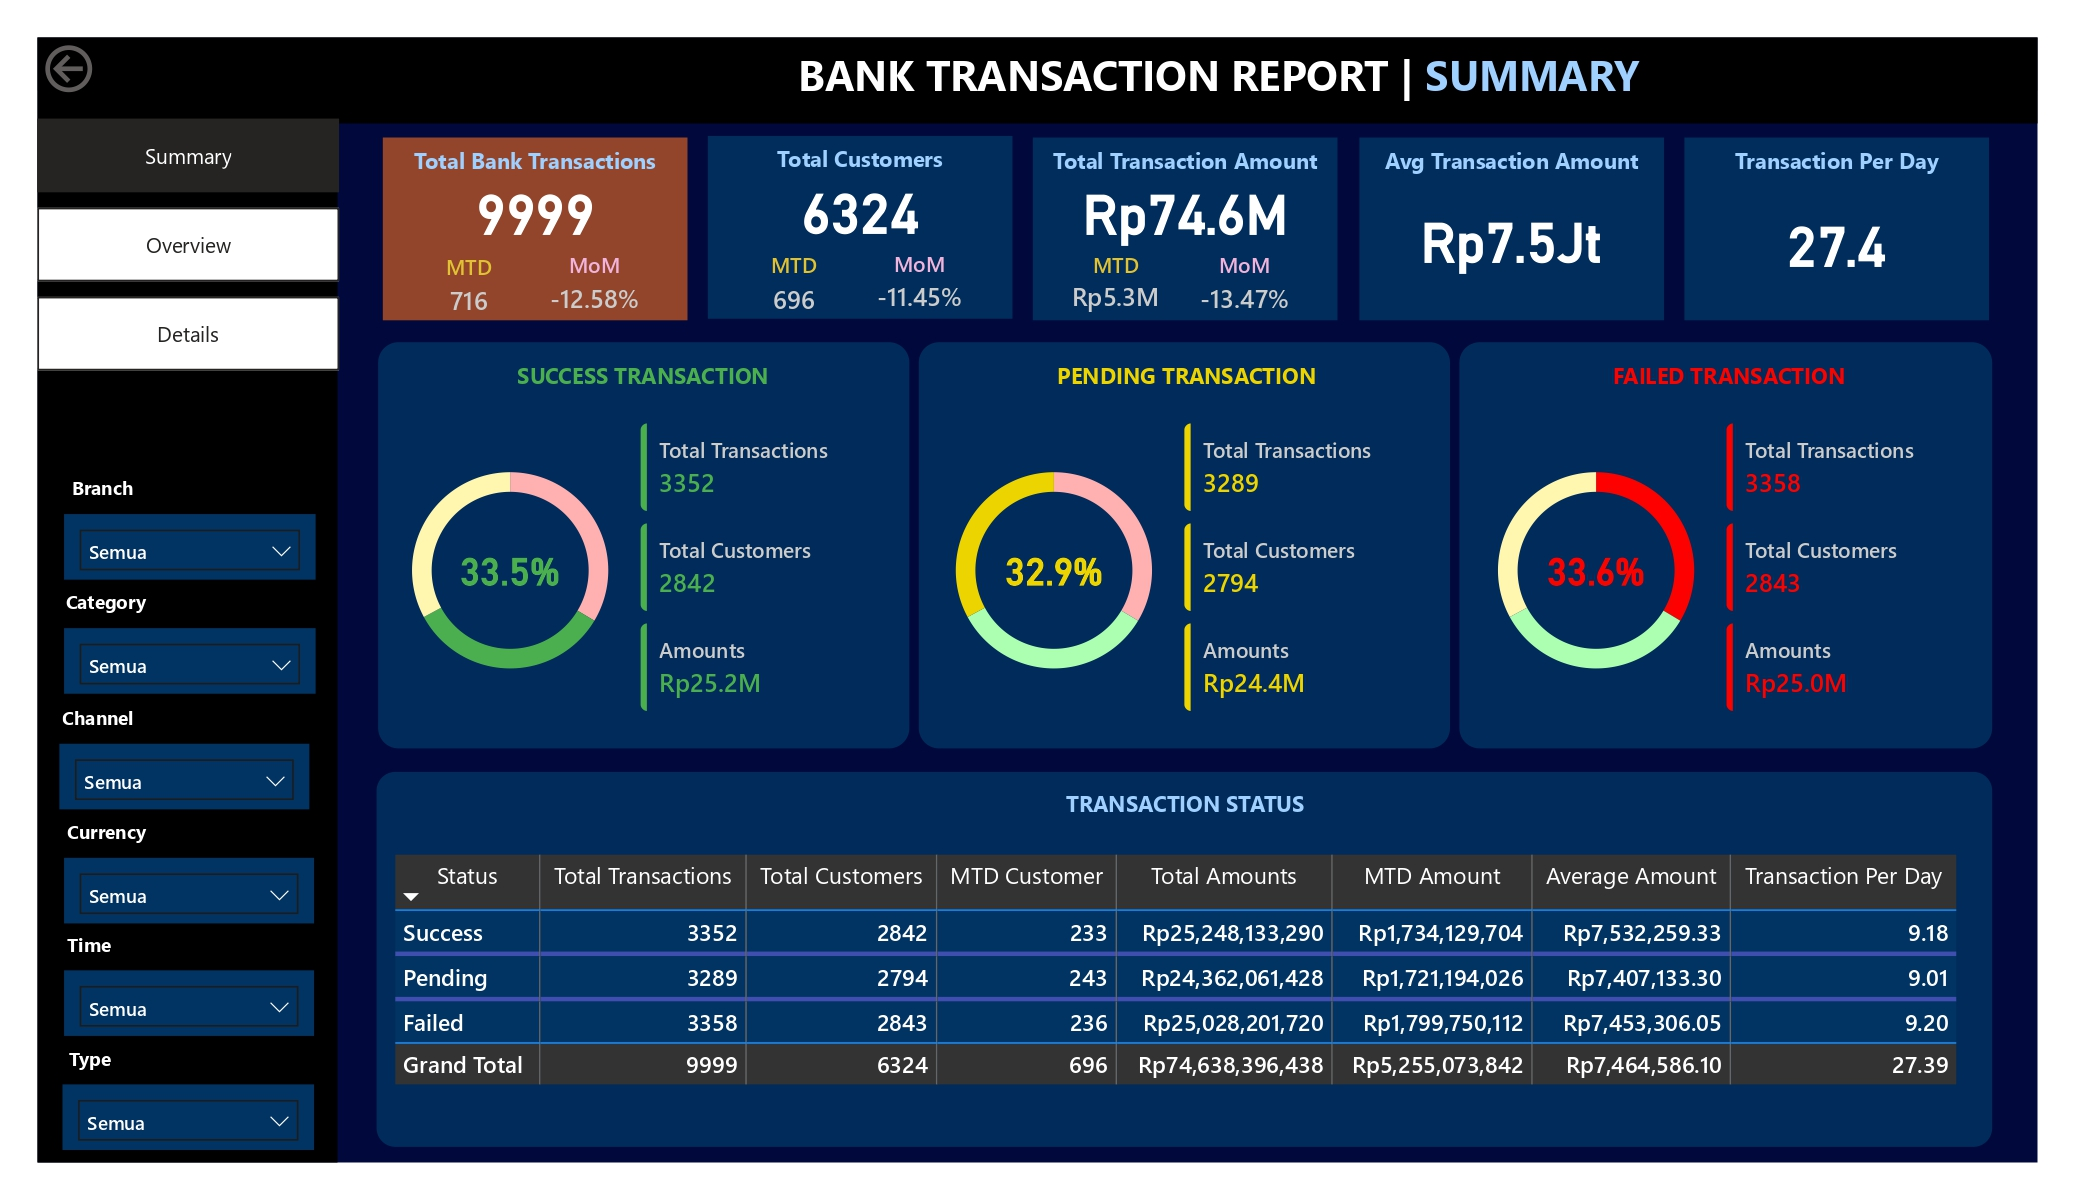

The dashboard page shown, as its layout file describes it:
{"tool":"powerbi","page":{"name":"Summary","canvas":[1280,720],"ordinal":0},"visuals":[{"type":"shape","box":[0,54.8,192,665.5],"z":0},{"type":"shape","box":[428.9,63.3,195.1,117.3],"z":0,"group":"g5"},{"type":"shape","box":[220.6,63.7,195.1,117.3],"z":0,"group":"g4"},{"type":"shape","box":[637.3,63.7,195.1,117.3],"z":0,"group":"g6"},{"type":"shape","box":[845.7,63.7,195.1,117.3],"z":0,"group":"g7"},{"type":"shape","box":[1054.1,63.7,195.1,117.3],"z":0,"group":"g8"},{"type":"textbox","box":[223.1,202.3,328.9,39.5],"z":0,"group":"g9"},{"type":"textbox","box":[570.5,202.3,328.9,39.5],"z":0,"group":"g10"},{"type":"textbox","box":[917.9,202.3,328.9,39.5],"z":0,"group":"g11"},{"type":"card","fields":{"Values":["bank.UniqueCustomers"]},"box":[428.9,82.4,195.1,54.8],"z":1000,"group":"g5"},{"type":"card","fields":{"Values":["bank.TotalTransaction"]},"box":[220.6,82.8,195.1,54.8],"z":1000,"group":"g4"},{"type":"card","fields":{"Values":["bank.TotalAmount"]},"box":[637.3,82.8,195.1,54.8],"z":1000,"group":"g6"},{"type":"card","fields":{"Values":["bank.AverageTransactionValue"]},"box":[845.7,100.7,195.1,54.8],"z":1000,"group":"g7"},{"type":"card","fields":{"Values":["bank.TransactionPerDay"]},"box":[1054.1,103.2,195.1,54.8],"z":1000,"group":"g8"},{"type":"group","id":"g1","title":"Group 2","box":[219.3,257.1,167,168.3],"z":1000,"group":"g9"},{"type":"group","id":"g2","title":"Group 2","box":[566.7,257.1,167,168.3],"z":1000,"group":"g10"},{"type":"group","id":"g3","title":"Group 2","box":[914.1,257.1,167,168.3],"z":1000,"group":"g11"},{"type":"shape","box":[216.7,470.4,1033.9,239.7],"z":1000},{"type":"textbox","box":[428.9,63.3,195.1,39.5],"z":2000,"group":"g5"},{"type":"textbox","box":[220.6,63.7,195.1,39.5],"z":2000,"group":"g4"},{"type":"textbox","box":[637.3,63.7,195.1,39.5],"z":2000,"group":"g6"},{"type":"textbox","box":[845.7,63.7,195.1,39.5],"z":2000,"group":"g7"},{"type":"textbox","box":[1054.1,63.7,195.1,39.5],"z":2000,"group":"g8"},{"type":"shape","box":[564.1,195.1,340,260.1],"z":2000},{"type":"cardVisual","fields":{"Data":["bank.TotalSuccessTransaction","bank.TotalSuccessCustomers","bank.TotalSuccessAmount"]},"box":[369.7,230.3,183.6,218],"z":2000,"group":"g9"},{"type":"cardVisual","fields":{"Data":["bank.TotalPendingTransaction","bank.TotalPendingCustomers","bank.TotalPendingAmount"]},"box":[717.1,230.3,183.6,218],"z":2000,"group":"g10"},{"type":"cardVisual","fields":{"Data":["bank.TotalFailedTransaction","bank.TotalFailedCustomers","bank.TotalFailedAmount"]},"box":[1064.5,230.3,183.6,218],"z":2000,"group":"g11"},{"type":"card","title":"MTD","fields":{"Values":["bank.MTDCustomer"]},"box":[450.6,137.2,66.3,48.4],"z":3000,"group":"g5"},{"type":"card","title":"MTD","fields":{"Values":["bank.MTDAmount"]},"box":[654.2,137.2,72.3,42.2],"z":3000,"group":"g6"},{"type":"card","title":"MTD","fields":{"Values":["bank.MTDBankTransactions"]},"box":[242.3,137.6,66.3,48.4],"z":3000,"group":"g4"},{"type":"shape","box":[218,195.1,340,260.1],"z":3000},{"type":"textbox","box":[16.6,274.1,56.1,39.5],"z":3000,"group":"g12"},{"type":"shape","box":[0,0,1280,55],"z":4000},{"type":"card","title":"MoM","fields":{"Values":["bank.MoMCustomer"]},"box":[526.5,136.8,75.9,47],"z":4000,"group":"g5"},{"type":"card","title":"MoM","fields":{"Values":["bank.MoMBankTransactions"]},"box":[318.2,137.2,75.9,47],"z":4000,"group":"g4"},{"type":"card","title":"MoM","fields":{"Values":["bank.MoMAmount"]},"box":[734.9,137.2,75.9,47],"z":4000,"group":"g6"},{"type":"textbox","box":[637.1,475.5,195.1,39.5],"z":5000},{"type":"textbox","box":[481.9,0,557.1,56.1],"z":6000},{"type":"group","id":"g4","title":"Group 1","box":[220.6,63.7,195.1,122.4],"z":7000},{"type":"group","id":"g5","title":"Group 1","box":[428.9,63.3,195.1,122.4],"z":8000},{"type":"group","id":"g6","title":"Group 1","box":[637.3,63.7,195.1,120.5],"z":9000},{"type":"group","id":"g7","title":"Group 1","box":[845.7,63.7,195.1,117.3],"z":10000},{"type":"group","id":"g8","title":"Group 1","box":[1054.1,63.7,195.1,117.3],"z":11000},{"type":"actionButton","box":[0,0,100,40],"z":12000},{"type":"shape","box":[910.3,195.1,340.4,260.1],"z":13000},{"type":"donutChart","fields":{"Category":["bank.Transaction Status"],"Y":["bank.TotalTransaction"]},"box":[219.3,257.1,167,168.3],"z":13000,"group":"g1"},{"type":"donutChart","fields":{"Category":["bank.Transaction Status"],"Y":["bank.TotalTransaction"]},"box":[566.7,257.1,167,168.3],"z":13000,"group":"g2"},{"type":"donutChart","fields":{"Category":["bank.Transaction Status"],"Y":["bank.TotalTransaction"]},"box":[914.1,257.1,167,168.3],"z":13000,"group":"g3"},{"type":"card","fields":{"Values":["bank.SucessTransPerc"]},"box":[242.2,309.4,121.1,63.7],"z":13500,"group":"g1"},{"type":"card","fields":{"Values":["bank.PendingTransPerc"]},"box":[589.6,309.4,121.1,63.7],"z":13500,"group":"g2"},{"type":"card","fields":{"Values":["bank.FailedTransPerc"]},"box":[937,309.4,121.1,63.7],"z":13500,"group":"g3"},{"type":"group","id":"g9","title":"Group 3","box":[219.3,202.3,334,246.1],"z":14000},{"type":"group","id":"g10","title":"Group 3","box":[566.7,202.3,334,246.1],"z":15000},{"type":"group","id":"g11","title":"Group 3","box":[914.1,202.3,334,246.1],"z":16000},{"type":"tableEx","fields":{"Values":["bank.Status","bank.TotalTransaction","bank.UniqueCustomers","bank.MTDCustomer","bank.TotalAmount","bank.MTDAmount","bank.AverageTransactionValue","bank.TransactionPerDay"]},"box":[223.4,517.6,1022.5,198.9],"z":17000},{"type":"group","id":"g12","title":"Group 4","box":[16.6,274.1,160.6,72.7],"z":18000},{"type":"slicer","fields":{"Values":["bank.Branch"]},"box":[16.6,304.7,160.6,42.1],"z":19000,"group":"g12"},{"type":"group","id":"g13","title":"Group 5","box":[12.7,346.8,164.5,73.9],"z":19000},{"type":"textbox","box":[12.7,346.8,72.7,39.5],"z":20000,"group":"g13"},{"type":"group","id":"g14","title":"Group 5","box":[11.5,420.7,163.2,72.9],"z":20000},{"type":"textbox","box":[11.5,420.7,70.1,39.5],"z":20000,"group":"g14"},{"type":"textbox","box":[14,493.5,70.1,39.5],"z":20000,"group":"g15"},{"type":"textbox","box":[14,566.1,70.1,39.5],"z":20000,"group":"g16"},{"type":"textbox","box":[14.9,638.7,70.1,39.5],"z":20000,"group":"g17"},{"type":"slicer","fields":{"Values":["bank.MerchantCategory"]},"box":[16.9,377.7,160.6,42.1],"z":21000,"group":"g13"},{"type":"slicer","fields":{"Values":["bank.Channel"]},"box":[14.1,451.6,160.6,42.1],"z":21000,"group":"g14"},{"type":"group","id":"g15","title":"Group 5","box":[14,493.5,163.2,72.7],"z":21000},{"type":"slicer","fields":{"Values":["bank.Currency"]},"box":[16.6,524.4,160.6,42.1],"z":21000,"group":"g15"},{"type":"slicer","fields":{"Values":["bank.TimeOfDay"]},"box":[16.6,597,160.6,42.1],"z":21000,"group":"g16"},{"type":"slicer","fields":{"Values":["bank.TransactionType"]},"box":[16.1,669.7,160.6,42.1],"z":21000,"group":"g17"},{"type":"group","id":"g16","title":"Group 5","box":[14,566.1,163.2,72.7],"z":22000},{"type":"group","id":"g17","title":"Group 5","box":[14.9,638.7,161.9,72.7],"z":23000},{"type":"pageNavigator","box":[0,52.3,192.5,161.9],"z":24000}]}

Visuals, with their boxes on the page's 1280x720 design canvas (x1, y1, x2, y2). These are canvas units, not pixel positions in the 2075x1200 screenshot, which may show the page scaled, cropped or inside an application window:
shape: bbox=(0, 55, 192, 720)
shape: bbox=(429, 63, 624, 181)
shape: bbox=(221, 64, 416, 181)
shape: bbox=(637, 64, 832, 181)
shape: bbox=(846, 64, 1041, 181)
shape: bbox=(1054, 64, 1249, 181)
textbox: bbox=(223, 202, 552, 242)
textbox: bbox=(570, 202, 899, 242)
textbox: bbox=(918, 202, 1247, 242)
card - bank.UniqueCustomers: bbox=(429, 82, 624, 137)
card - bank.TotalTransaction: bbox=(221, 83, 416, 138)
card - bank.TotalAmount: bbox=(637, 83, 832, 138)
card - bank.AverageTransactionValue: bbox=(846, 101, 1041, 156)
card - bank.TransactionPerDay: bbox=(1054, 103, 1249, 158)
"Group 2" group: bbox=(219, 257, 386, 425)
"Group 2" group: bbox=(567, 257, 734, 425)
"Group 2" group: bbox=(914, 257, 1081, 425)
shape: bbox=(217, 470, 1251, 710)
textbox: bbox=(429, 63, 624, 103)
textbox: bbox=(221, 64, 416, 103)
textbox: bbox=(637, 64, 832, 103)
textbox: bbox=(846, 64, 1041, 103)
textbox: bbox=(1054, 64, 1249, 103)
shape: bbox=(564, 195, 904, 455)
cardVisual - bank.TotalSuccessTransaction x bank.TotalSuccessCustomers: bbox=(370, 230, 553, 448)
cardVisual - bank.TotalPendingTransaction x bank.TotalPendingCustomers: bbox=(717, 230, 901, 448)
cardVisual - bank.TotalFailedTransaction x bank.TotalFailedCustomers: bbox=(1064, 230, 1248, 448)
"MTD" card: bbox=(451, 137, 517, 186)
"MTD" card: bbox=(654, 137, 726, 179)
"MTD" card: bbox=(242, 138, 309, 186)
shape: bbox=(218, 195, 558, 455)
textbox: bbox=(17, 274, 73, 314)
shape: bbox=(0, 0, 1280, 55)
"MoM" card: bbox=(526, 137, 602, 184)
"MoM" card: bbox=(318, 137, 394, 184)
"MoM" card: bbox=(735, 137, 811, 184)
textbox: bbox=(637, 476, 832, 515)
textbox: bbox=(482, 0, 1039, 56)
"Group 1" group: bbox=(221, 64, 416, 186)
"Group 1" group: bbox=(429, 63, 624, 186)
"Group 1" group: bbox=(637, 64, 832, 184)
"Group 1" group: bbox=(846, 64, 1041, 181)
"Group 1" group: bbox=(1054, 64, 1249, 181)
actionButton: bbox=(0, 0, 100, 40)
shape: bbox=(910, 195, 1251, 455)
donutChart - bank.Transaction Status x bank.TotalTransaction: bbox=(219, 257, 386, 425)
donutChart - bank.Transaction Status x bank.TotalTransaction: bbox=(567, 257, 734, 425)
donutChart - bank.Transaction Status x bank.TotalTransaction: bbox=(914, 257, 1081, 425)
card - bank.SucessTransPerc: bbox=(242, 309, 363, 373)
card - bank.PendingTransPerc: bbox=(590, 309, 711, 373)
card - bank.FailedTransPerc: bbox=(937, 309, 1058, 373)
"Group 3" group: bbox=(219, 202, 553, 448)
"Group 3" group: bbox=(567, 202, 901, 448)
"Group 3" group: bbox=(914, 202, 1248, 448)
tableEx - bank.Status x bank.TotalTransaction: bbox=(223, 518, 1246, 716)
"Group 4" group: bbox=(17, 274, 177, 347)
slicer - bank.Branch: bbox=(17, 305, 177, 347)
"Group 5" group: bbox=(13, 347, 177, 421)
textbox: bbox=(13, 347, 85, 386)
"Group 5" group: bbox=(12, 421, 175, 494)
textbox: bbox=(12, 421, 82, 460)
textbox: bbox=(14, 494, 84, 533)
textbox: bbox=(14, 566, 84, 606)
textbox: bbox=(15, 639, 85, 678)
slicer - bank.MerchantCategory: bbox=(17, 378, 178, 420)
slicer - bank.Channel: bbox=(14, 452, 175, 494)
"Group 5" group: bbox=(14, 494, 177, 566)
slicer - bank.Currency: bbox=(17, 524, 177, 566)
slicer - bank.TimeOfDay: bbox=(17, 597, 177, 639)
slicer - bank.TransactionType: bbox=(16, 670, 177, 712)
"Group 5" group: bbox=(14, 566, 177, 639)
"Group 5" group: bbox=(15, 639, 177, 711)
pageNavigator: bbox=(0, 52, 192, 214)
